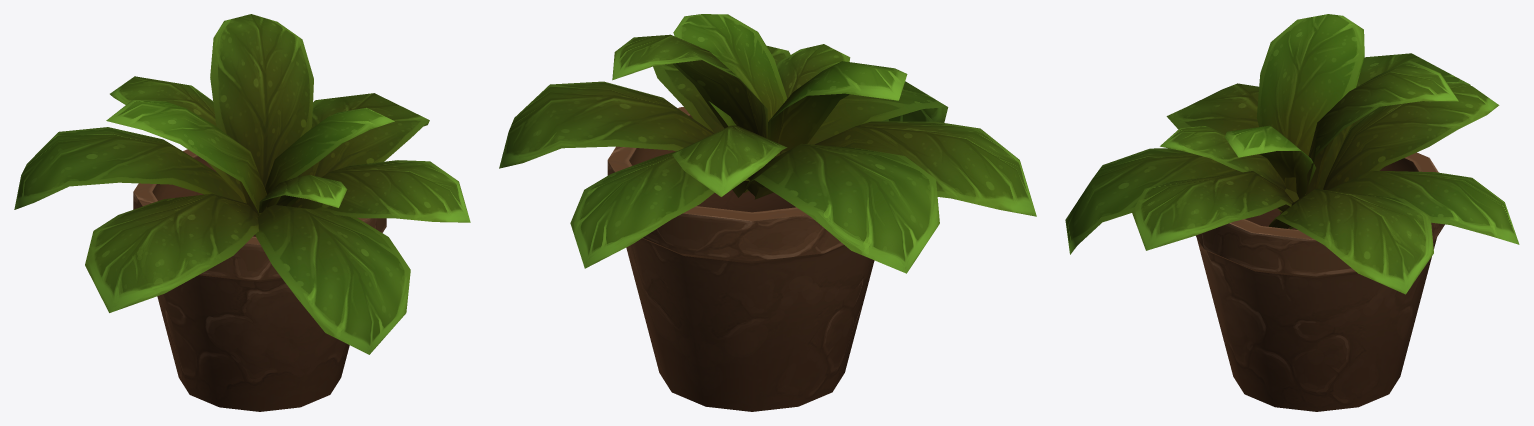
The model's file is Plant.FBX.
3 views of the same model, side by side, from view 1: azimuth 30°, elevation 25°; view 2: azimuth 150°, elevation 25°; view 3: azimuth 270°, elevation 25° (orthographic). The views are drawn at different scales.
Visible parts, largest first — view 1: Plant; view 2: Plant; view 3: Plant.
Part boxes in pixels (x1,y1,x2,y2): Plant: (14,14,470,411); Plant: (499,14,1036,411); Plant: (1065,14,1519,411).
Bounding box in the file's own units: 724 × 559 × 714.
